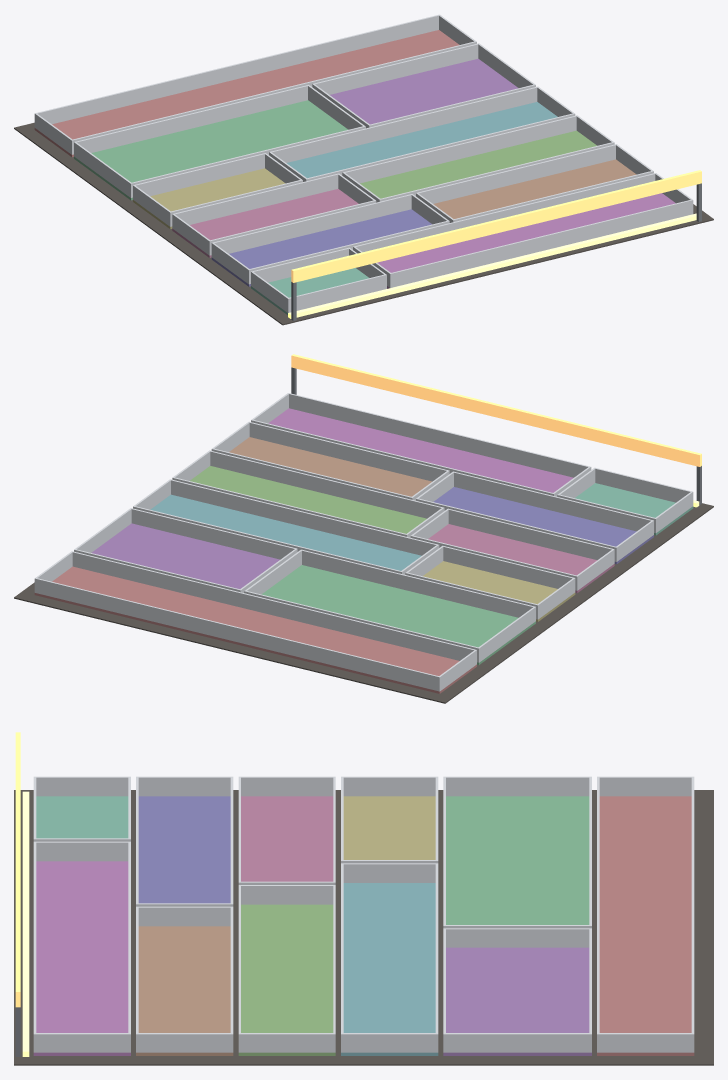
The model's file is hall-insulators.glb.
3 views of the same model, one above another, from view 1: azimuth 30°, elevation 25°; view 2: azimuth 150°, elevation 25°; view 3: azimuth 270°, elevation 25° (orthographic). The views are drawn at different scales.
Visible parts, largest first — view 1: Heat & Frost Insulators; view 2: Heat & Frost Insulators; view 3: Heat & Frost Insulators.
Part boxes in pixels (bbox=[...]): Heat & Frost Insulators: bbox=[14, 14, 713, 325]; Heat & Frost Insulators: bbox=[14, 354, 713, 703]; Heat & Frost Insulators: bbox=[14, 732, 713, 1065].
Bounding box in the file's own units: 38 × 4.3 × 41.
